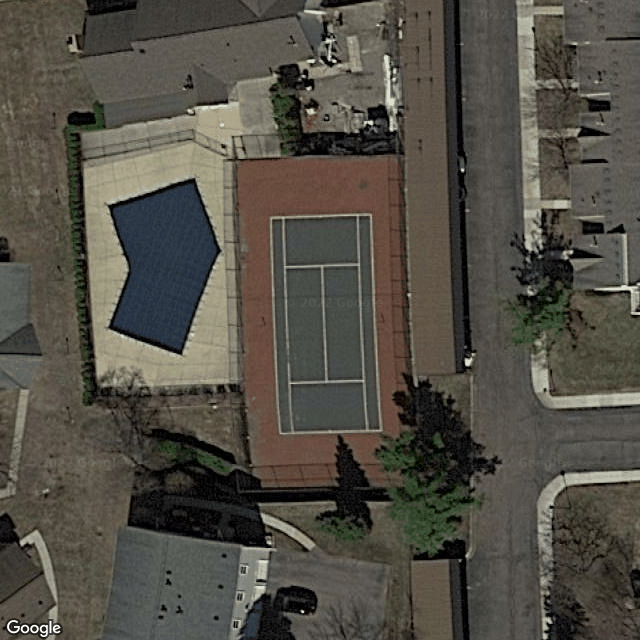Court: (268, 213, 384, 435)
